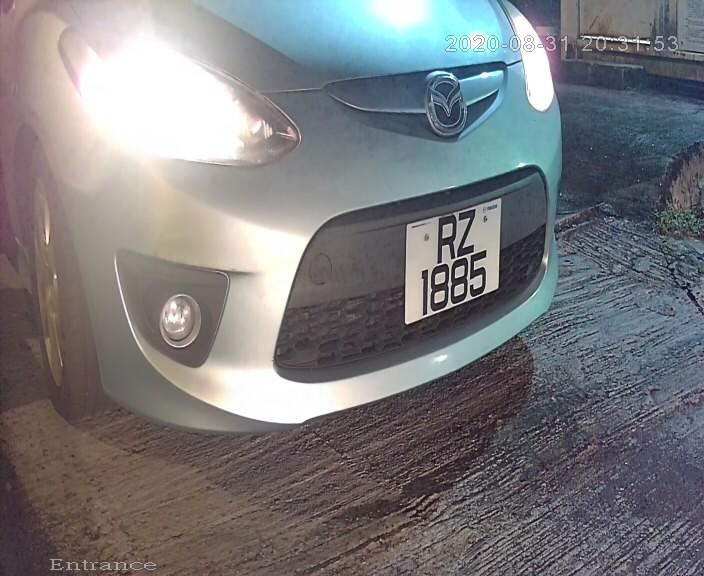Car: (26, 3, 598, 461)
License Plate: (397, 199, 500, 332)
